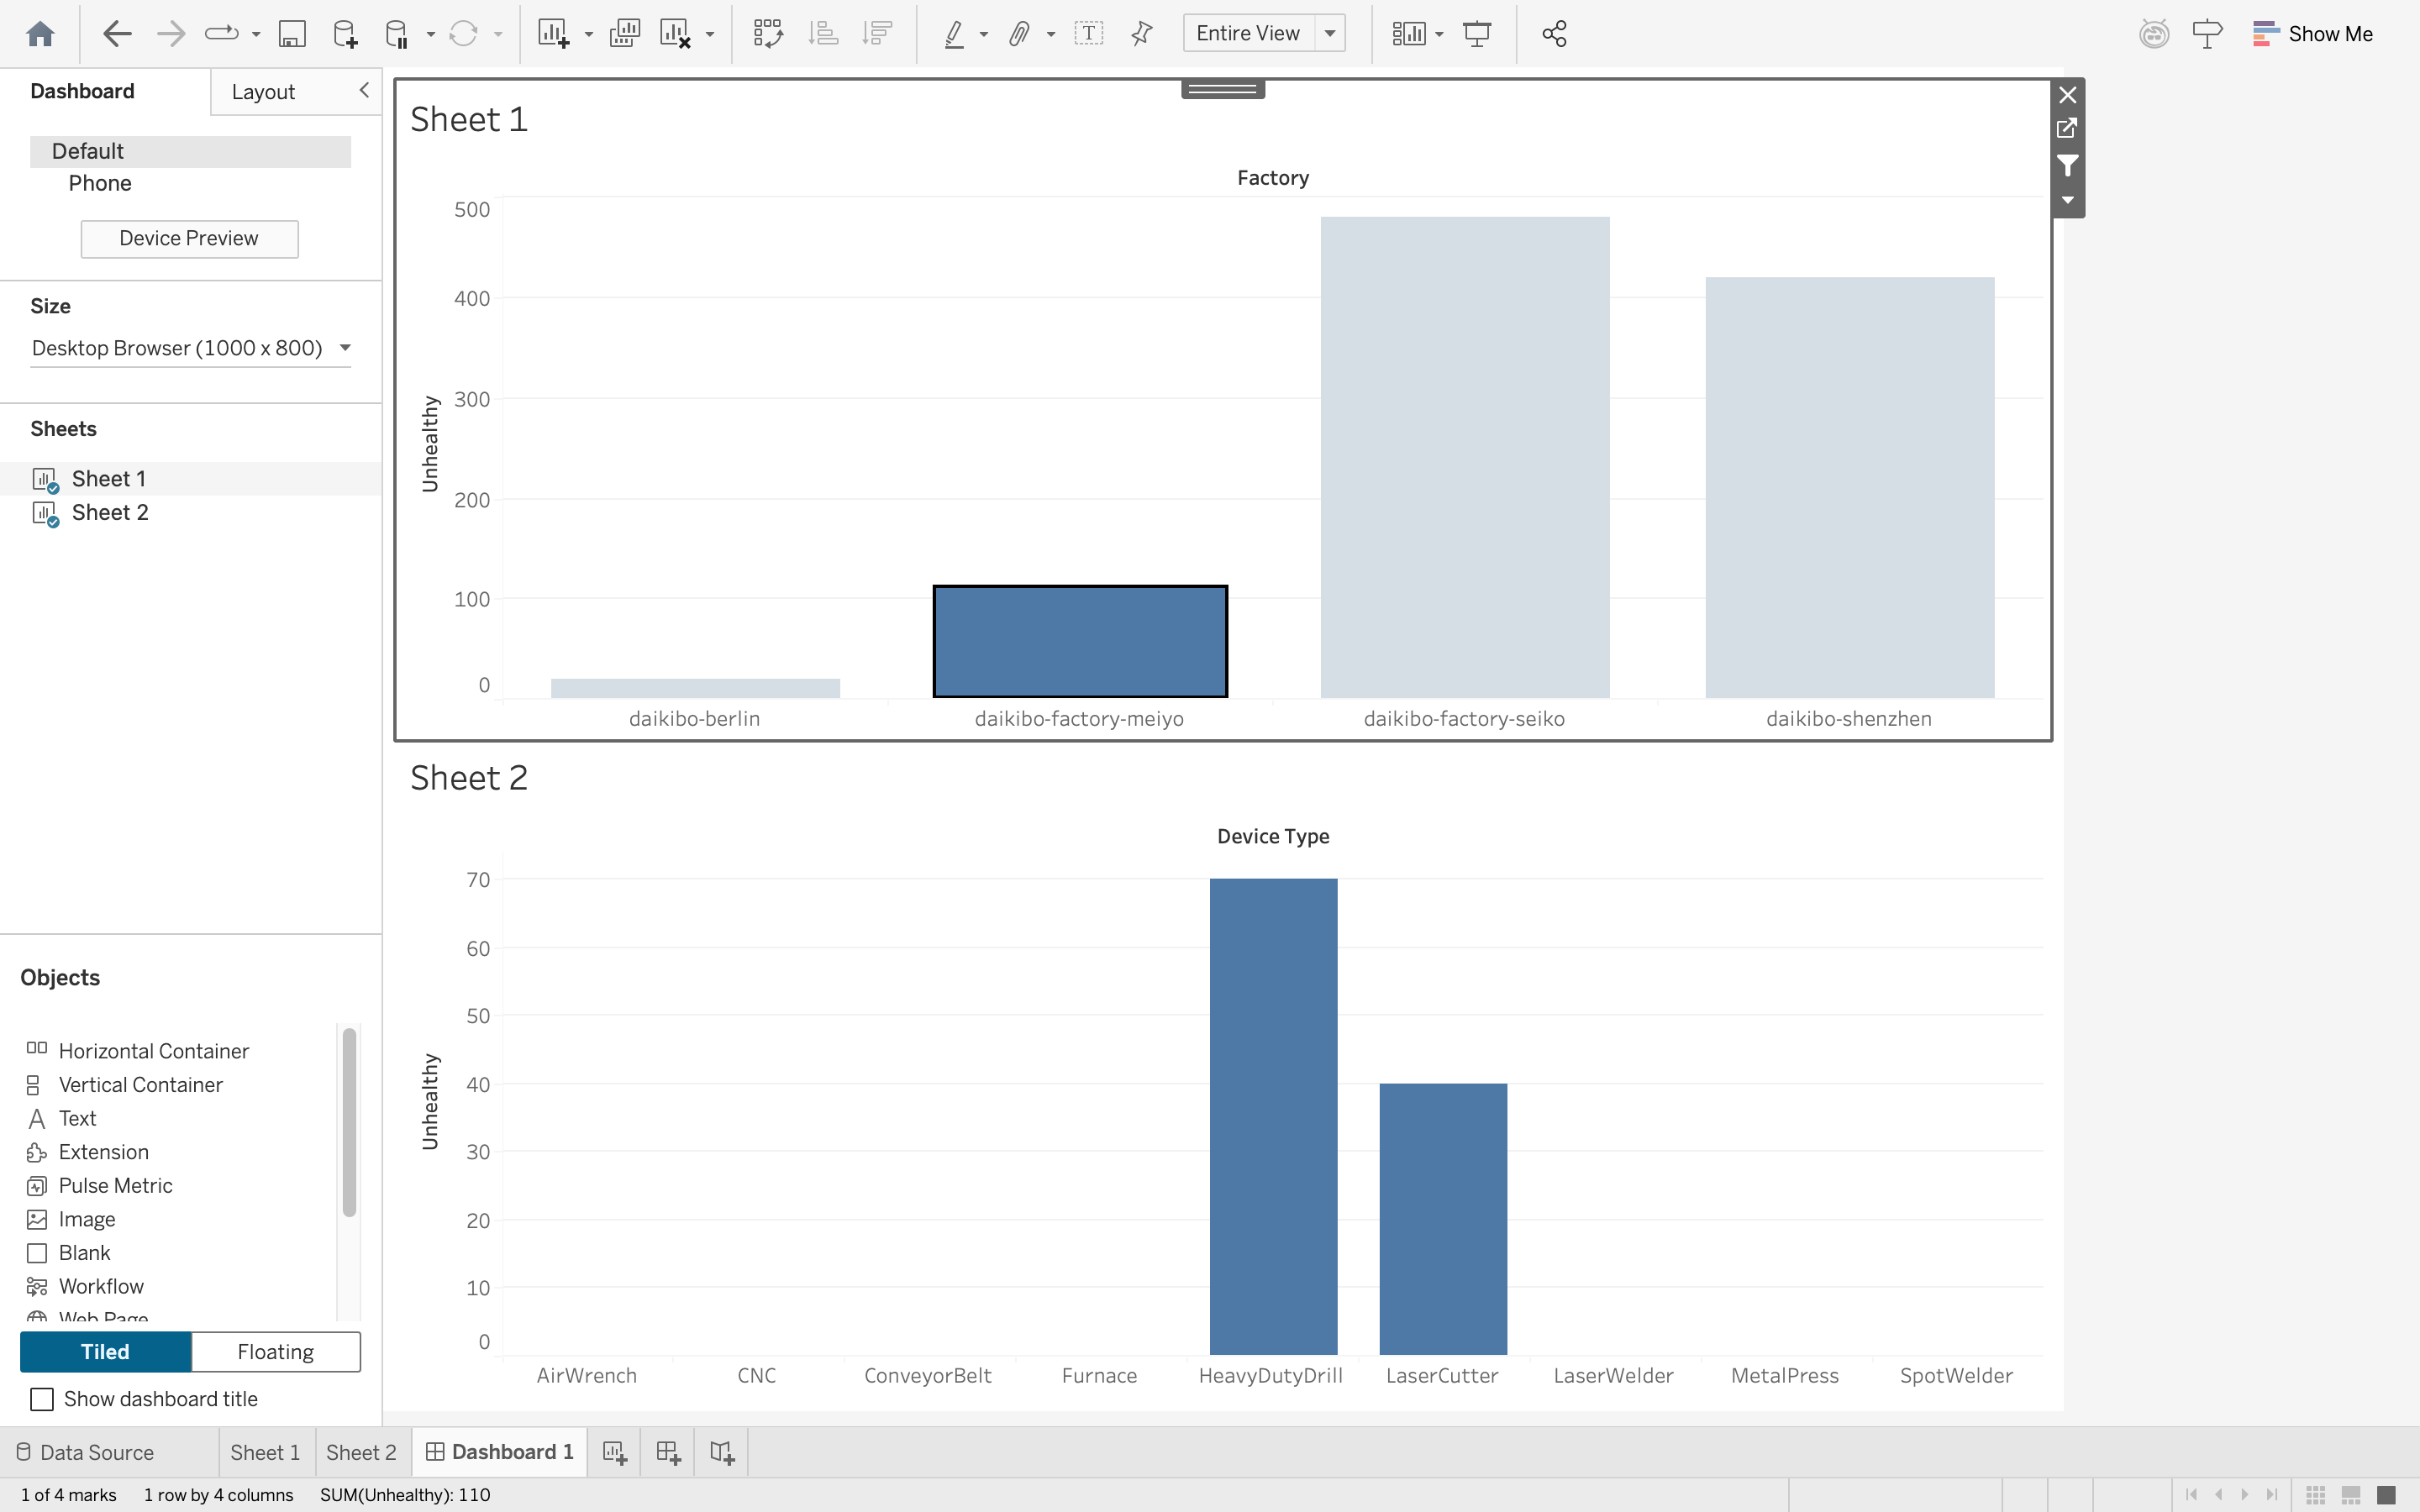

What the dashboard file says about the page in this screenshot:
{"tool":"tableau","page":{"name":"Dashboard 1","canvas":[1000,800],"ordinal":0},"visuals":[{"type":"worksheet","title":"Sheet 1","mark":"Automatic","rows":["Calculation_132785845268717568"],"cols":["factory"],"box":[8,8,984,392]},{"type":"worksheet","title":"Sheet 2","mark":"Automatic","rows":["Calculation_132785845268717568"],"cols":["deviceType"],"box":[8,400,984,392]}]}

Visuals, with their boxes on the page's 1000x800 design canvas (x1, y1, x2, y2). These are canvas units, not pixel positions in the 2420x1512 screenshot, which may show the page scaled, cropped or inside an application window:
"Sheet 1" worksheet: select_region(8, 8, 992, 400)
"Sheet 2" worksheet: select_region(8, 400, 992, 792)
